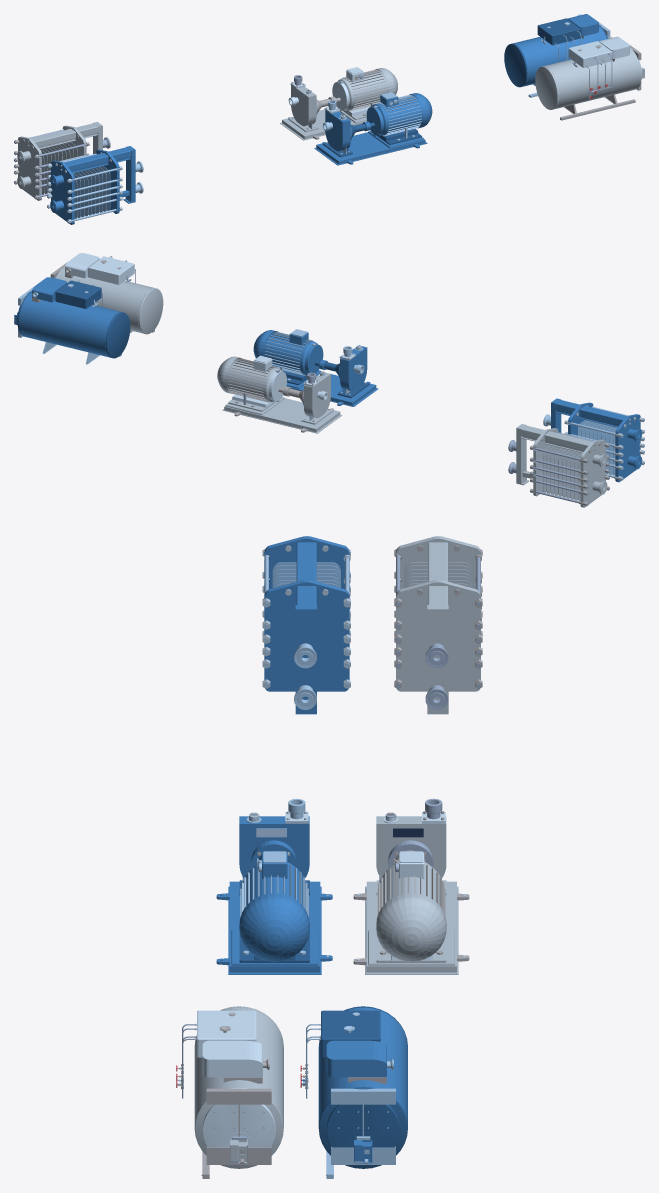
Rendered from model-dev.glb.
3 views of the same model, one above another, from view 1: azimuth 30°, elevation 25°; view 2: azimuth 150°, elevation 25°; view 3: azimuth 270°, elevation 25° (orthographic). The views are drawn at different scales.
Visible parts, largest first — view 1: 圆环.093, 圆环.031, 平面.015, 圆环.023, 圆环.086, 平面.012; view 2: 圆环.086, 圆环.023, 平面.012, 圆环.031, 圆环.093, 平面.015; view 3: 圆环.031, 圆环.023, 圆环.086, 圆环.093, 平面.015, 平面.012.
Part boxes in pixels (bbox=[...]): 圆环.093: bbox=[535, 36, 644, 120]; 圆环.031: bbox=[314, 92, 432, 165]; 平面.015: bbox=[47, 146, 143, 224]; 圆环.023: bbox=[280, 67, 397, 140]; 圆环.086: bbox=[504, 14, 610, 97]; 平面.012: bbox=[14, 122, 110, 200]; 圆环.086: bbox=[14, 277, 130, 364]; 圆环.023: bbox=[217, 355, 342, 433]; 平面.012: bbox=[508, 424, 609, 507]; 圆环.031: bbox=[253, 329, 378, 406]; 圆环.093: bbox=[50, 253, 163, 334]; 平面.015: bbox=[543, 398, 644, 482]; 圆环.031: bbox=[216, 798, 332, 974]; 圆环.023: bbox=[353, 798, 469, 974]; 圆环.086: bbox=[300, 1006, 407, 1178]; 圆环.093: bbox=[176, 1006, 283, 1178]; 平面.015: bbox=[262, 536, 350, 714]; 平面.012: bbox=[394, 536, 482, 714].
Size of the model in its own units: 13.18 by 1.33 by 3.05.
